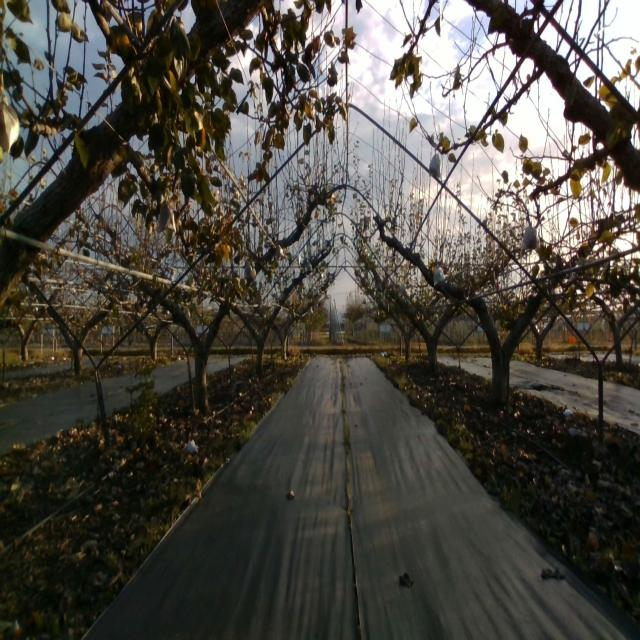pearbags: (0, 86, 21, 154), (156, 195, 176, 233), (520, 223, 536, 251), (429, 150, 441, 179), (433, 262, 445, 287), (243, 263, 254, 282)
